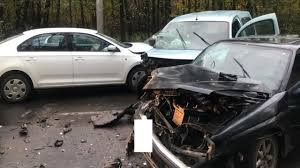car: (140, 31, 295, 166)
